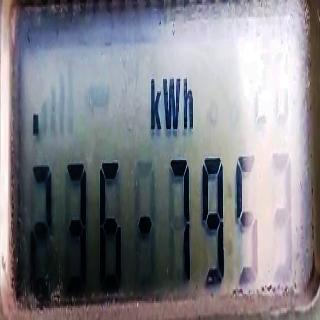-: (137, 212, 152, 237), (32, 110, 39, 138)
2: (27, 156, 54, 300)
3: (267, 138, 297, 289), (64, 155, 88, 300)
5: (233, 146, 262, 289)
6: (96, 154, 125, 295)
7: (167, 148, 195, 287)
9: (200, 147, 227, 290)
